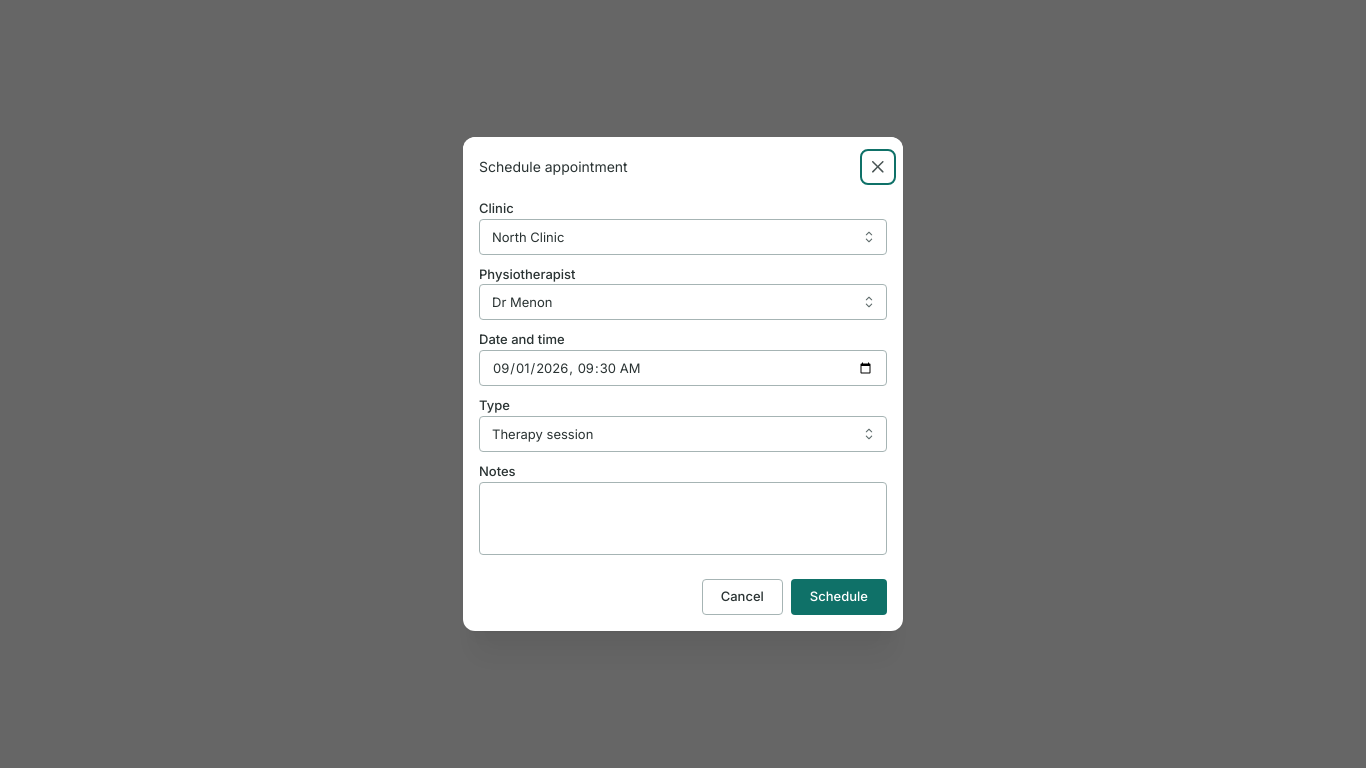
AppointmentFormDialog › renders the enforcement state inline for an unsubscribed organization
This screenshot has width=1366, height=768.
What coordinates should you click on to do the following:
click the button "Schedule"
I would click on:
 (839, 597)
Its box is [791, 579, 887, 615].
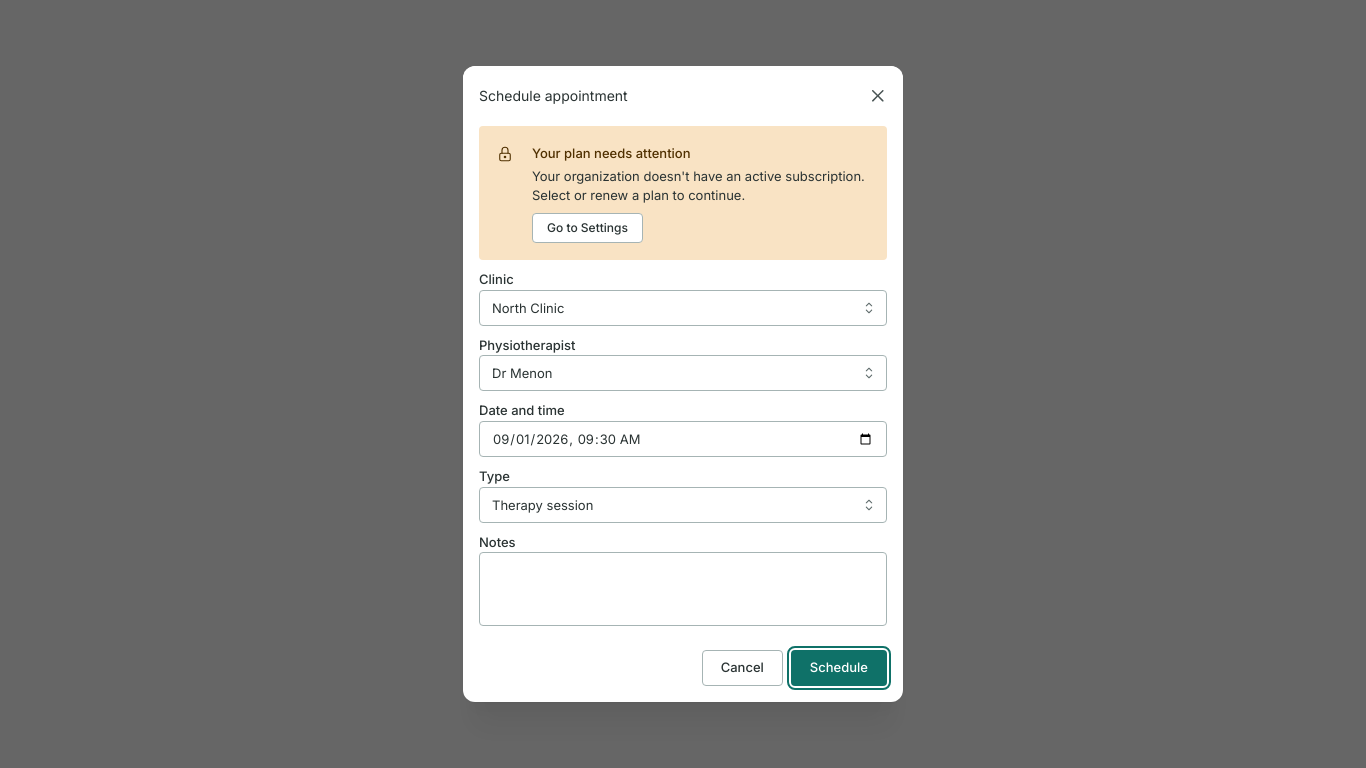
Check: the text "subscription" is shown, box [532, 168, 865, 203]
